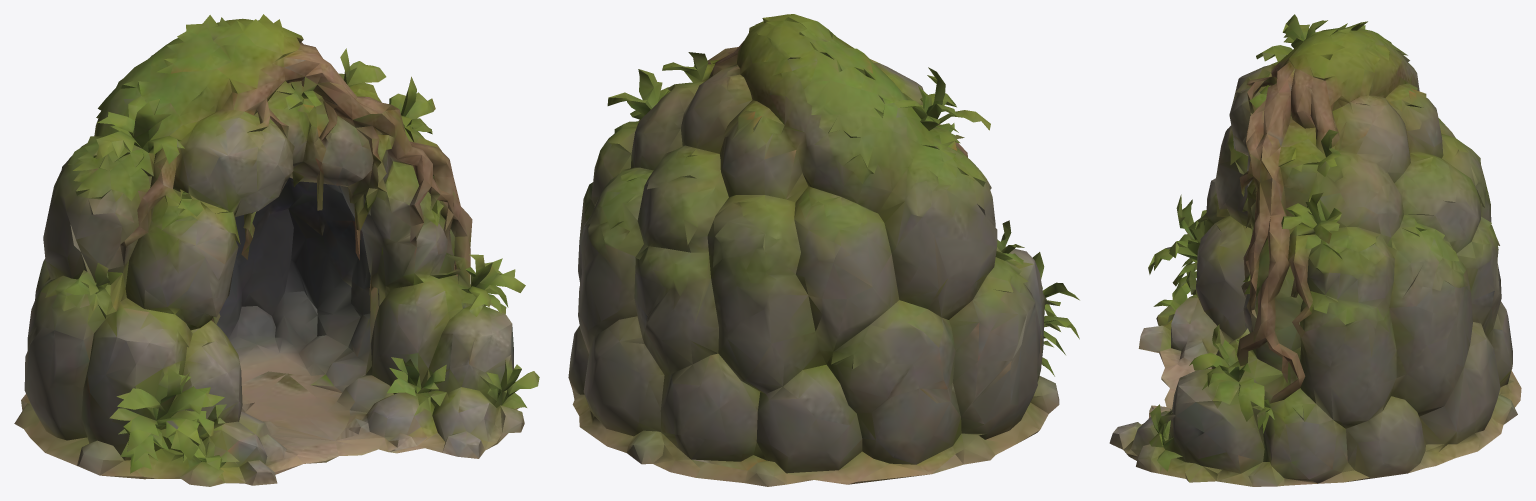
The model's file is boca_cueva.glb.
The picture shows the model from 3 angles, left to right: view 1: azimuth 30°, elevation 25°; view 2: azimuth 150°, elevation 25°; view 3: azimuth 270°, elevation 25°; orthographic projection. The views are drawn at different scales.
Parts seen in each view (by area): view 1: boca_cueva_malla; view 2: boca_cueva_malla; view 3: boca_cueva_malla.
Part boxes in pixels (box(x1,y1,x2,y2)): boca_cueva_malla: box(14, 14, 539, 486); boca_cueva_malla: box(568, 14, 1079, 486); boca_cueva_malla: box(1109, 14, 1521, 486).
Bounding box in the file's own units: 0.571 × 0.4733 × 0.4929.
Materials: 1 (1 with a texture image).
